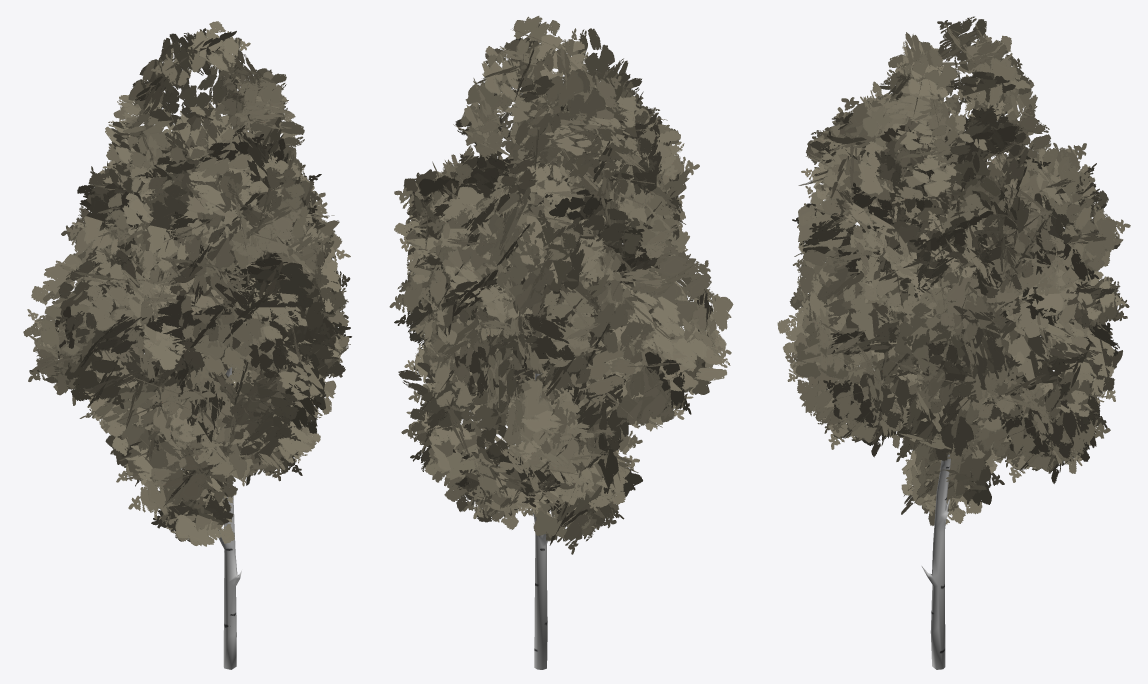
The model's file is tree2.fbx.
3 renders of one model, left to right at view 1: azimuth 30°, elevation 25°; view 2: azimuth 150°, elevation 25°; view 3: azimuth 270°, elevation 25°, orthographic. The views are drawn at different scales.
Parts seen in each view (by area): view 1: Без имени-1.044, Cylinder.003; view 2: Без имени-1.044, Cylinder.003; view 3: Без имени-1.044, Cylinder.003.
Part boxes in pixels (x1,y1,x2,y2): Без имени-1.044: (23,21,351,546); Cylinder.003: (218,367,241,669); Без имени-1.044: (389,16,733,554); Cylinder.003: (533,373,554,669); Без имени-1.044: (777,16,1130,525); Cylinder.003: (921,454,950,669).
Bounding box in the file's own units: 800 × 1490 × 769.
